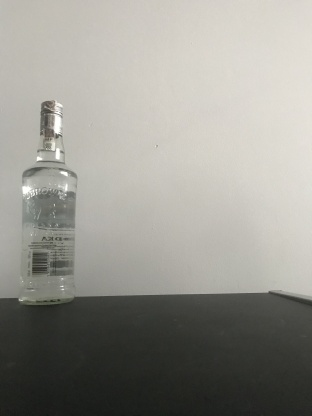nakretka: (38, 97, 65, 138)
